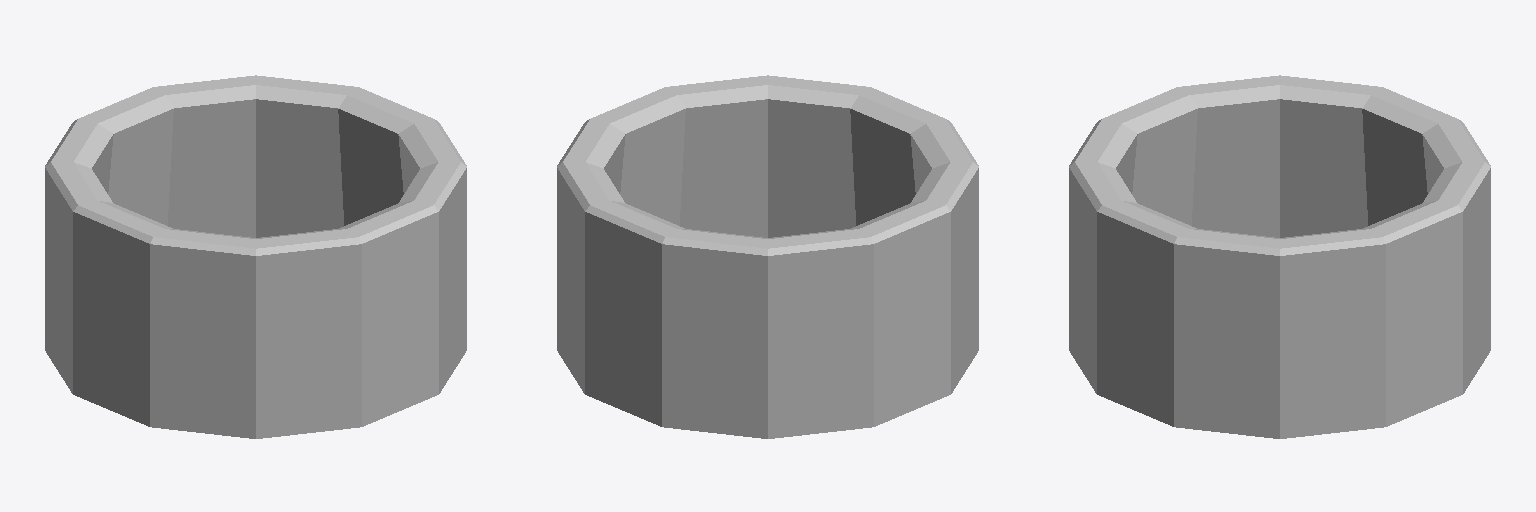
Rendered from pit.obj.
The picture shows the model from 3 angles: view 1: azimuth 30°, elevation 25°; view 2: azimuth 150°, elevation 25°; view 3: azimuth 270°, elevation 25°; orthographic projection.
Parts seen in each view (by area): view 1: Pit_Cylinder; view 2: Pit_Cylinder; view 3: Pit_Cylinder.
Boxes of the visible parts, x1=… form: Pit_Cylinder: x1=45, y1=75, x2=466, y2=438; Pit_Cylinder: x1=557, y1=75, x2=978, y2=438; Pit_Cylinder: x1=1069, y1=75, x2=1490, y2=438.
Size of the model in its own units: 20 by 9.8 by 20.